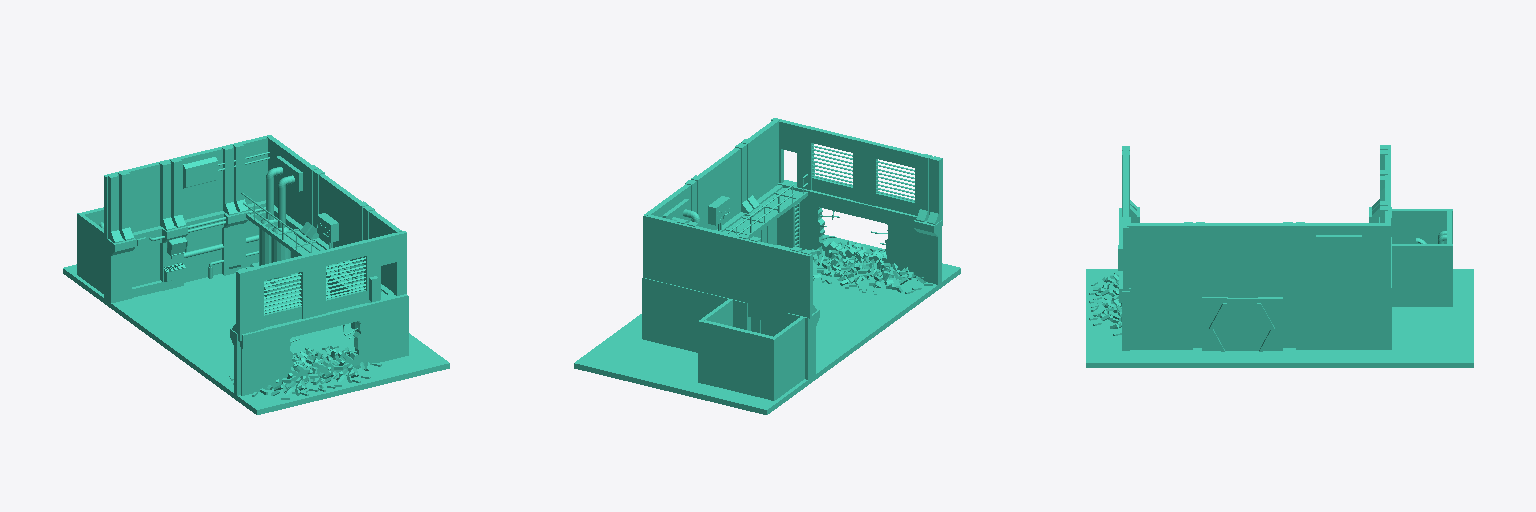
File: room_hardbox.obj
3 views of the same model, side by side, from view 1: azimuth 30°, elevation 25°; view 2: azimuth 150°, elevation 25°; view 3: azimuth 270°, elevation 25° (orthographic).
Parts seen in each view (by area): view 1: Floor; view 2: Floor; view 3: Floor.
Boxes of the visible parts, x1=… form: Floor: x1=63, y1=135, x2=449, y2=414; Floor: x1=574, y1=118, x2=960, y2=414; Floor: x1=1086, y1=145, x2=1473, y2=367.
Size of the model in its own units: 3.01 by 1.93 by 5.23.